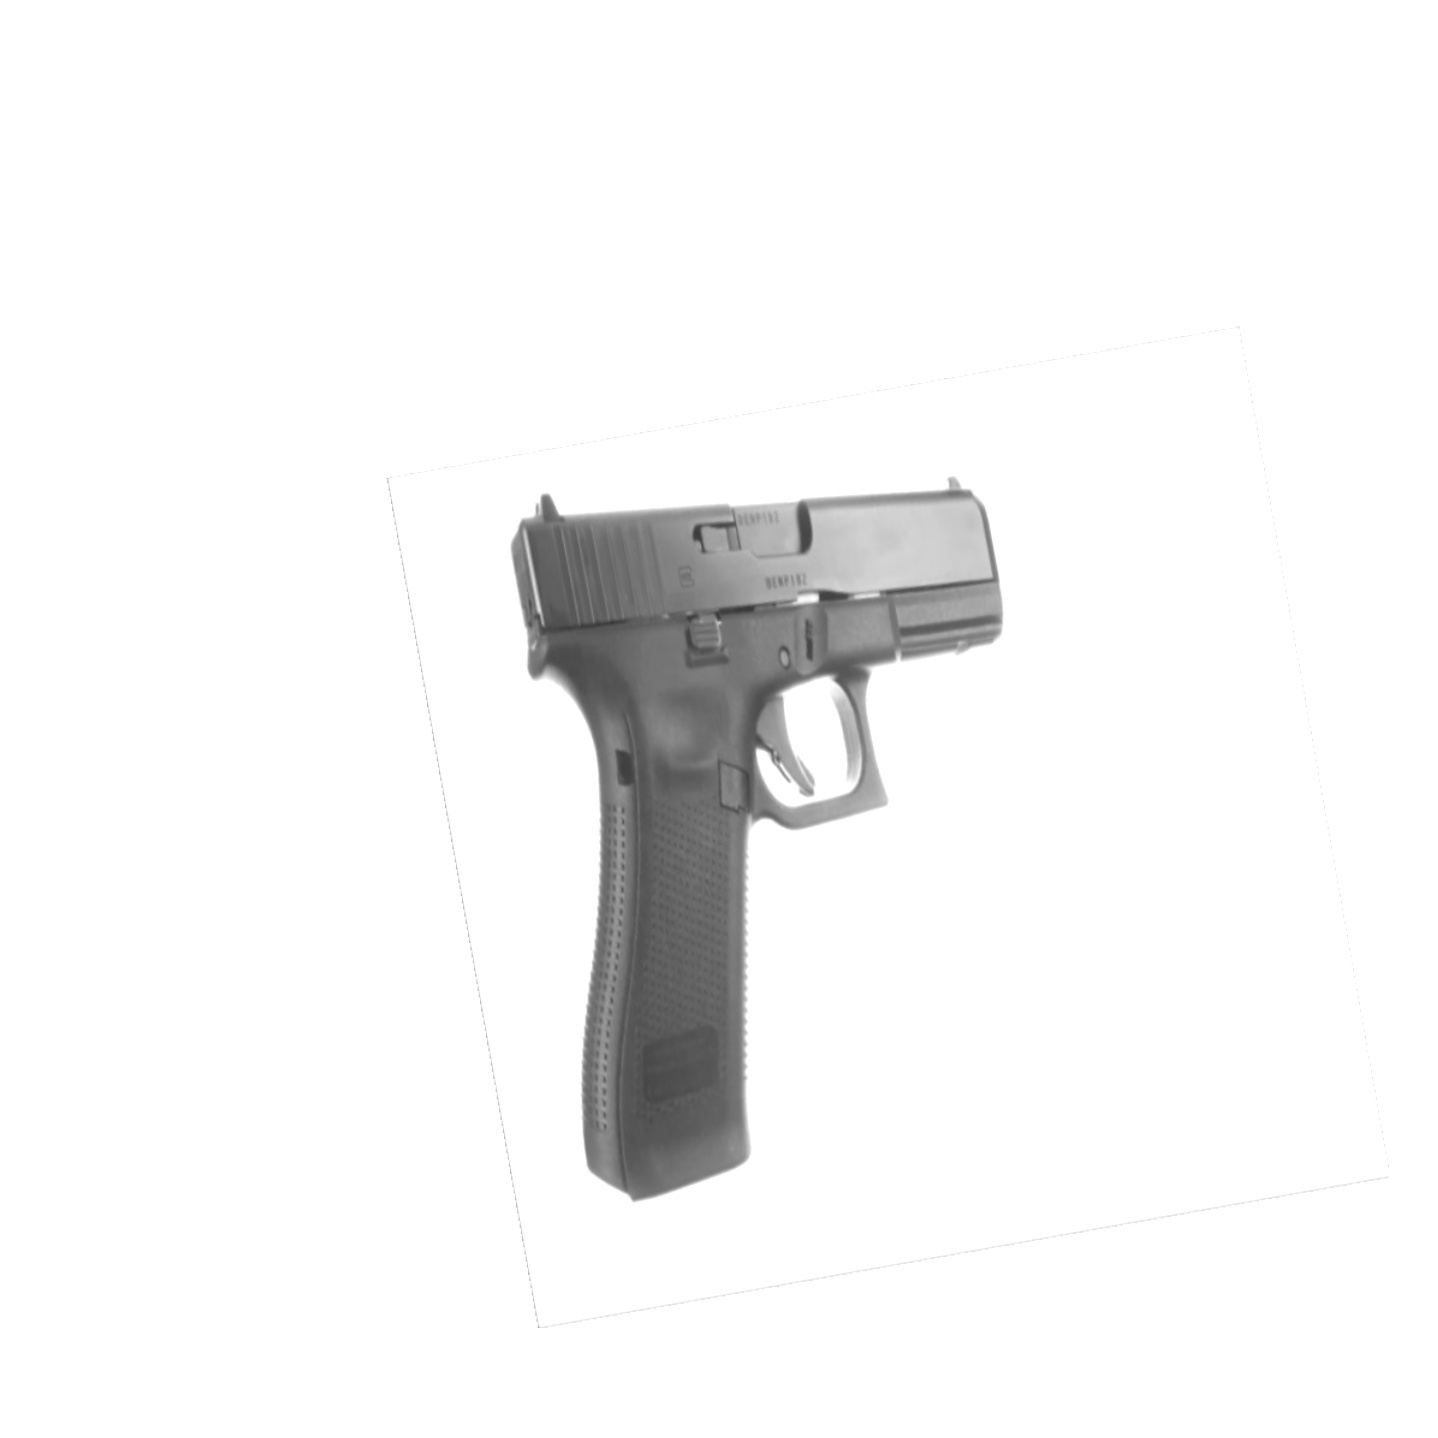gun: (496, 467, 1011, 1208)
